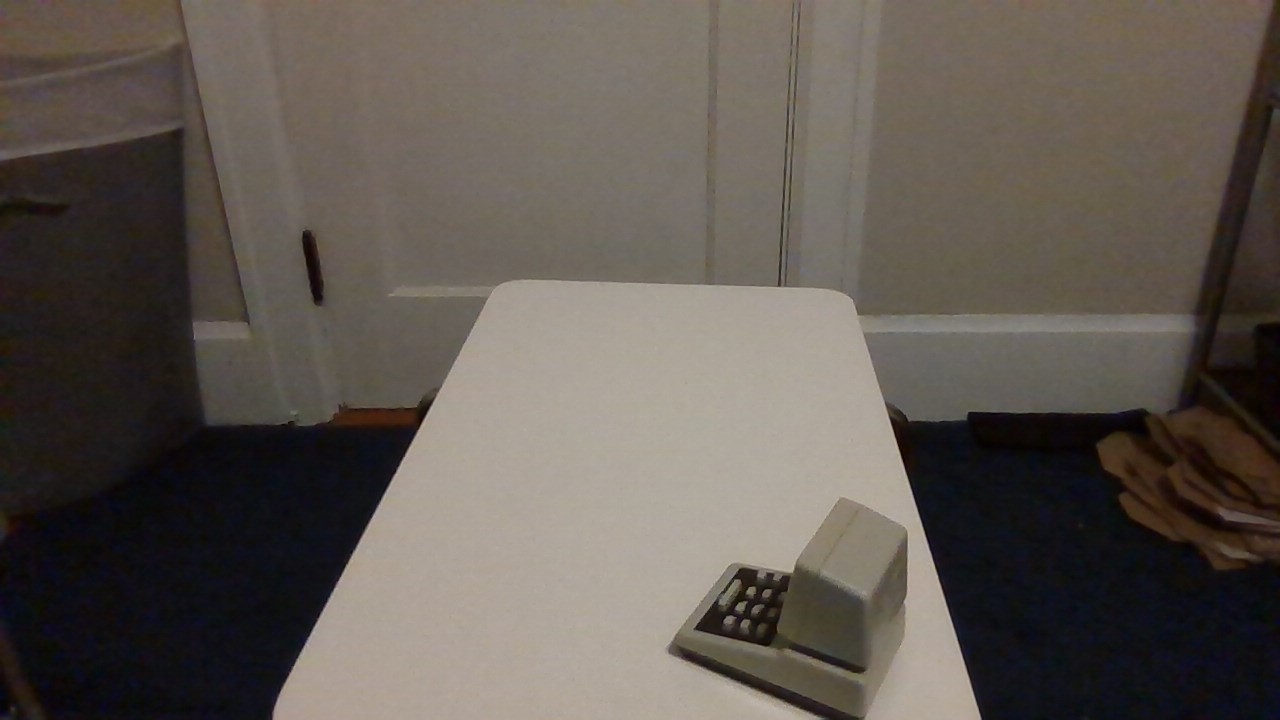Toy: (639, 469, 933, 720)
